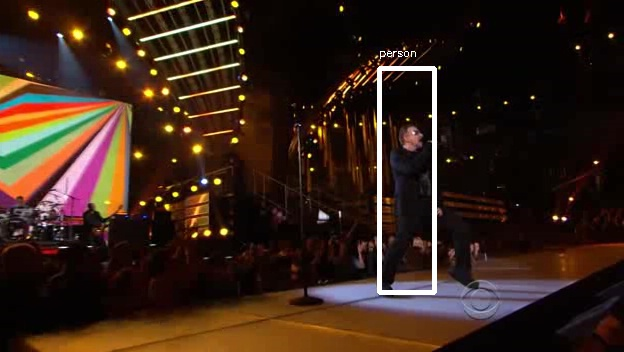person: (387, 129, 450, 242), (384, 129, 447, 242), (390, 129, 453, 242), (387, 126, 450, 239), (387, 132, 450, 245)
target_negative: (92, 93, 307, 262), (211, 38, 338, 218), (44, 248, 332, 312), (479, 90, 562, 306), (39, 231, 221, 308), (415, 325, 475, 329)
